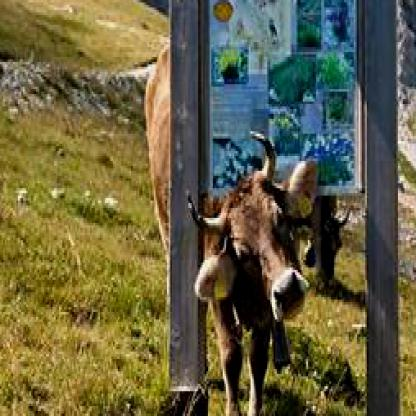cow: (182, 128, 321, 414)
